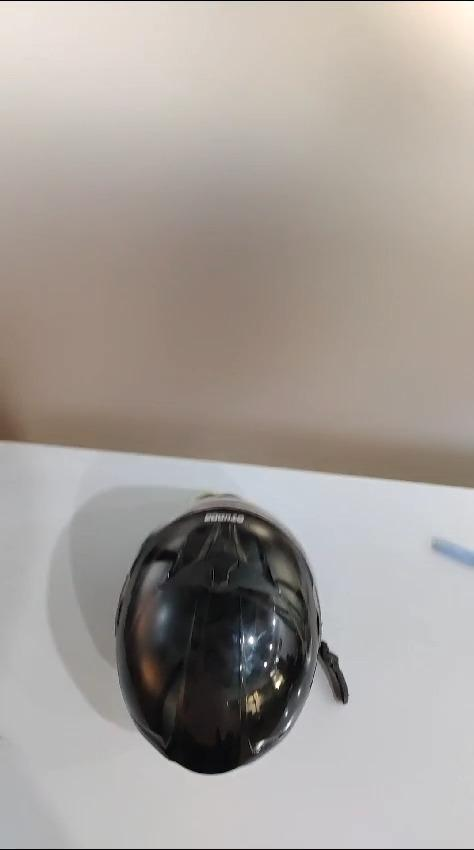Helmet: (112, 480, 324, 763)
